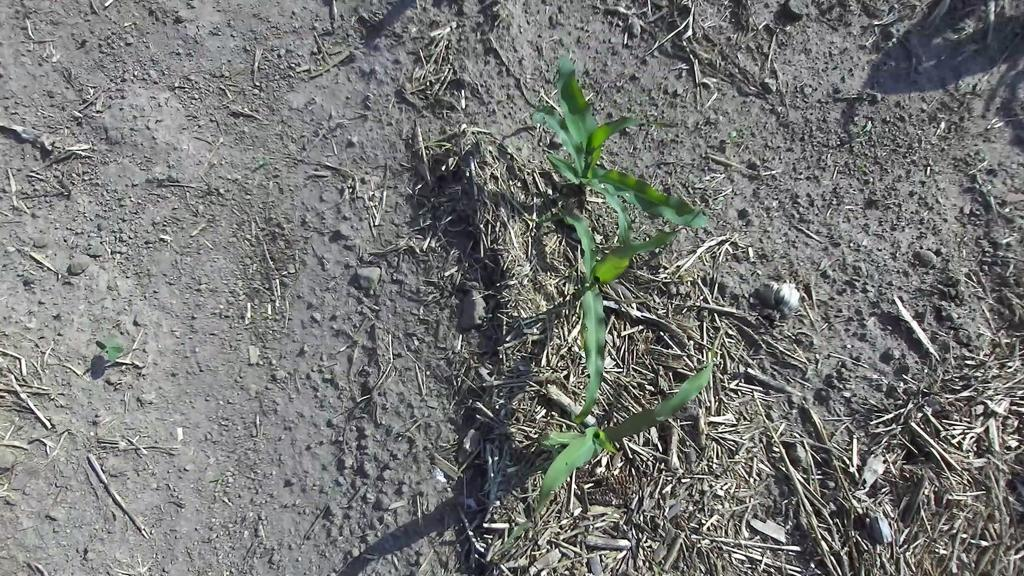BroWeed: (588, 501, 626, 522), (93, 338, 124, 361), (693, 557, 708, 574), (604, 548, 619, 564), (727, 129, 742, 145), (851, 115, 869, 127), (861, 120, 875, 135), (783, 23, 797, 35), (651, 563, 662, 576)
Maize: (466, 318, 731, 545), (466, 167, 688, 427), (514, 27, 711, 270)
